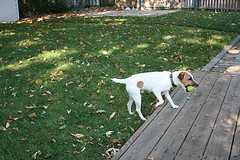tennis ball: (185, 83, 195, 93)
